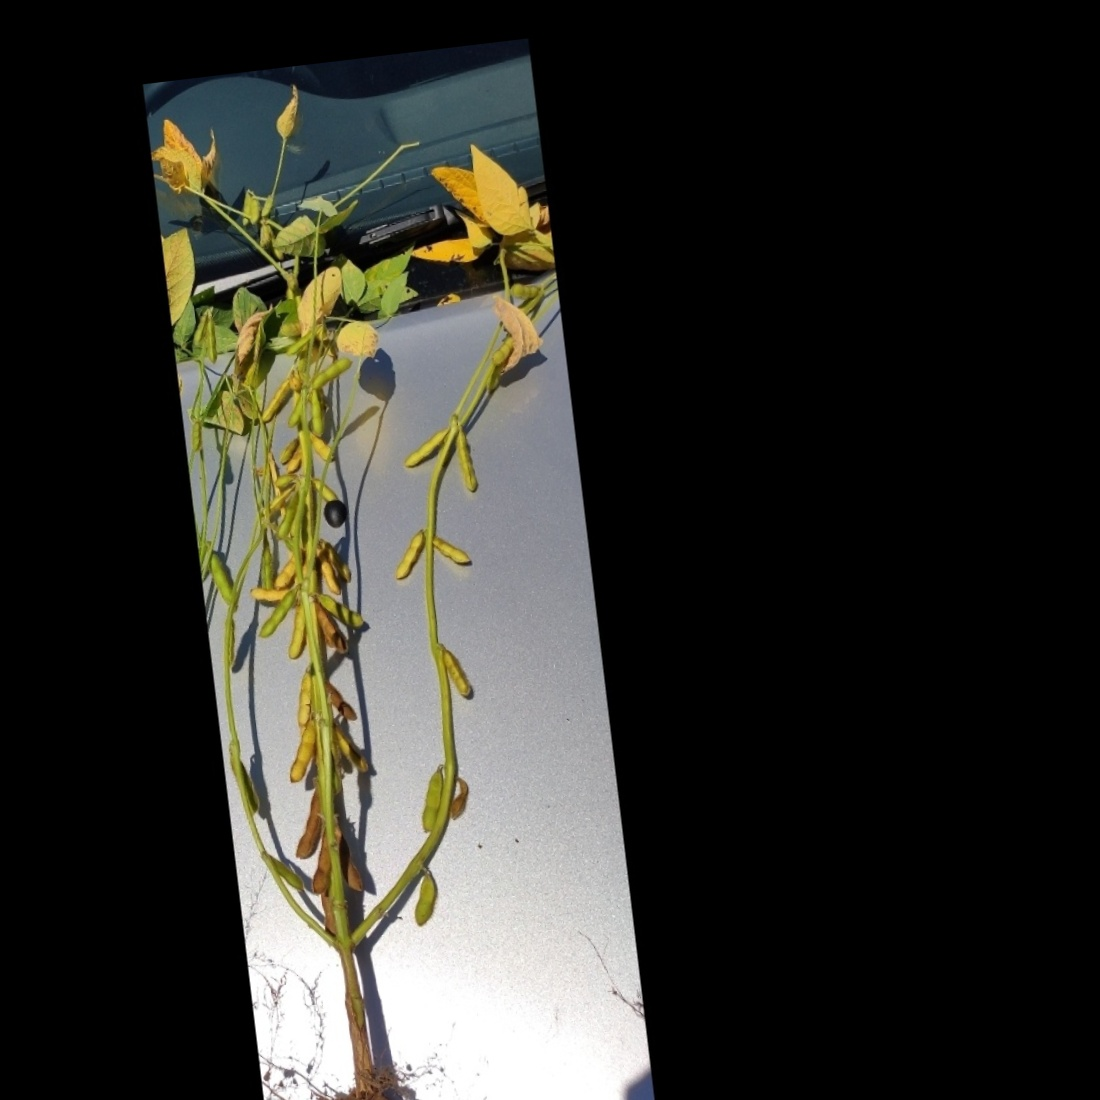pod: (251, 579, 311, 641), (288, 781, 330, 861), (397, 422, 460, 471), (315, 586, 369, 634), (413, 765, 448, 834), (284, 718, 321, 783), (253, 372, 296, 426), (451, 424, 483, 496), (388, 525, 430, 577), (441, 643, 476, 704), (306, 824, 335, 898), (270, 487, 306, 545), (407, 869, 441, 930), (305, 355, 357, 391), (282, 601, 312, 662), (269, 847, 306, 896), (290, 667, 316, 730), (207, 550, 235, 607), (313, 544, 340, 598), (432, 534, 472, 569), (270, 551, 305, 591), (305, 389, 326, 439), (508, 275, 543, 304), (202, 318, 224, 366), (486, 339, 518, 369), (188, 419, 202, 456)
soy: (152, 89, 641, 1100)
